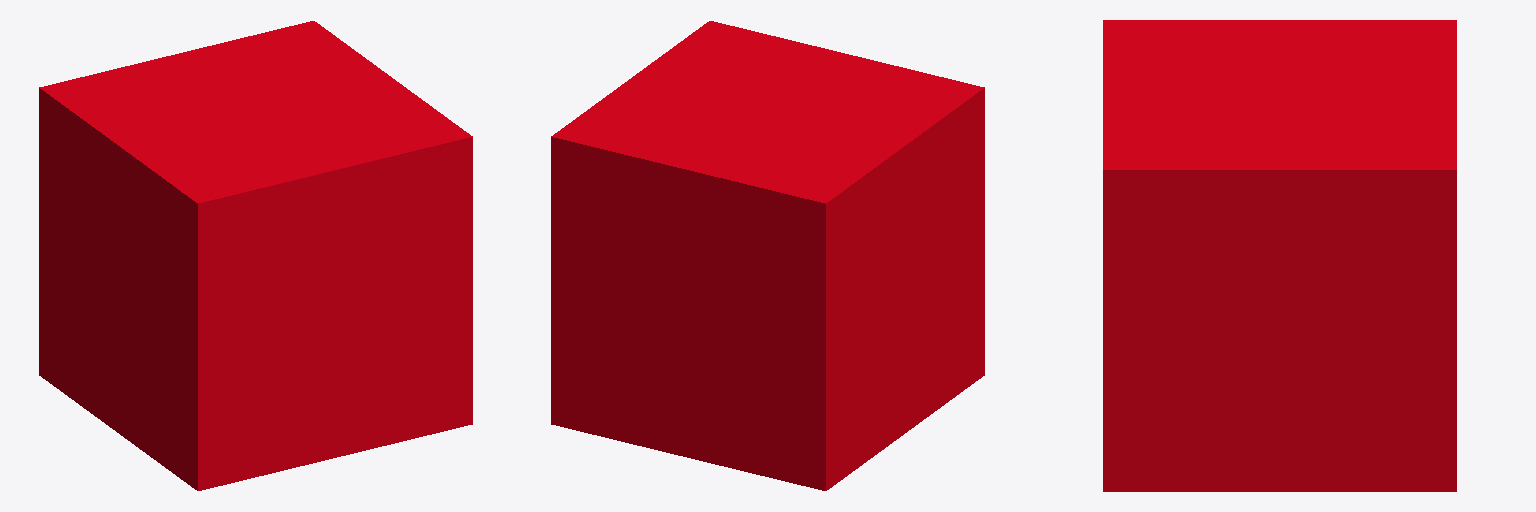
robot.urdf — random_box:
<?xml version='1.0' encoding='UTF-8'?>
<robot name="random_box">
  <link name="box">
    <visual>
      <geometry>
        <box size="0.05 0.05 0.05"/>
      </geometry>
      <material name="color">
        <color rgba="0.9085426836601094 0.03553682214025289 0.13185783603897738 1"/>
      </material>
    </visual>
    <collision>
      <geometry>
        <box size="0.05 0.05 0.05"/>
      </geometry>
    </collision>
  </link>
</robot>

--- Render facts (derived) ---
The picture shows the robot from 3 angles, left to right: view 1: azimuth 30°, elevation 25°; view 2: azimuth 150°, elevation 25°; view 3: azimuth 270°, elevation 25°; orthographic projection.
Robot: random_box — 1 links, 0 joints (none); root link box; default pose: all joints at 0.
Visible links, largest first — view 1: box; view 2: box; view 3: box.
Link boxes in pixels (x1=…): box: x1=39, y1=21, x2=472, y2=490; box: x1=551, y1=21, x2=984, y2=490; box: x1=1103, y1=20, x2=1456, y2=491.
Size in the robot's own frame: 0.05 by 0.05 by 0.05 metres.
Geometry: primitives only (box / cylinder / sphere), no mesh files.